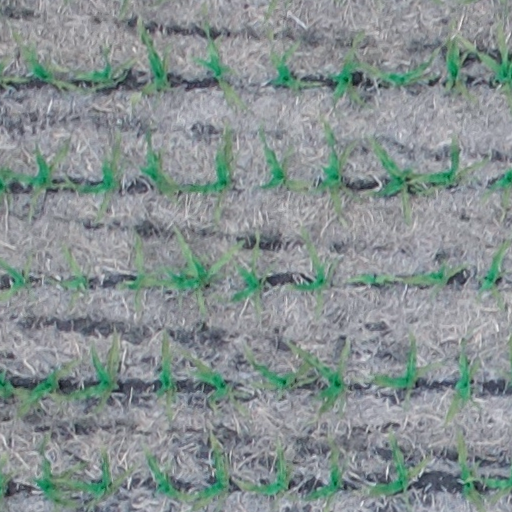planta: (1, 138, 74, 225), (55, 131, 122, 222), (50, 327, 121, 412), (178, 121, 235, 224), (187, 19, 248, 112), (147, 238, 246, 295), (409, 136, 492, 197), (112, 234, 172, 315), (177, 348, 249, 415), (361, 429, 430, 498), (7, 357, 78, 421), (55, 444, 132, 503), (366, 136, 417, 225), (285, 225, 332, 320), (11, 31, 79, 91), (295, 343, 350, 414), (312, 124, 353, 219), (142, 445, 208, 504), (264, 23, 317, 92), (220, 237, 266, 315), (234, 439, 293, 498), (442, 337, 481, 424), (367, 331, 422, 392), (30, 452, 87, 507), (326, 29, 366, 107), (70, 42, 138, 87), (176, 233, 212, 318), (244, 345, 305, 394), (135, 127, 178, 196), (300, 438, 345, 503), (256, 141, 311, 194), (358, 53, 439, 88), (136, 22, 173, 97), (53, 241, 92, 306), (152, 329, 179, 422), (398, 259, 469, 290), (441, 35, 474, 100), (345, 269, 400, 288)
